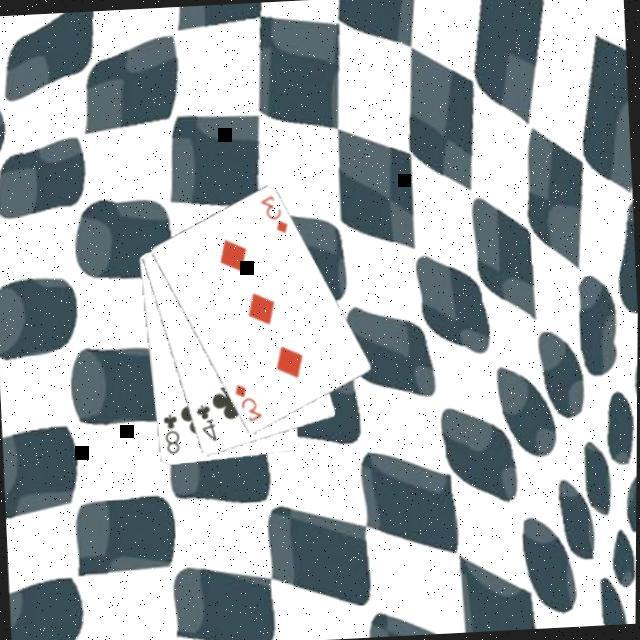3D: (259, 191, 294, 237), (233, 378, 267, 425)
4C: (194, 401, 222, 445)
8C: (161, 410, 185, 457)
